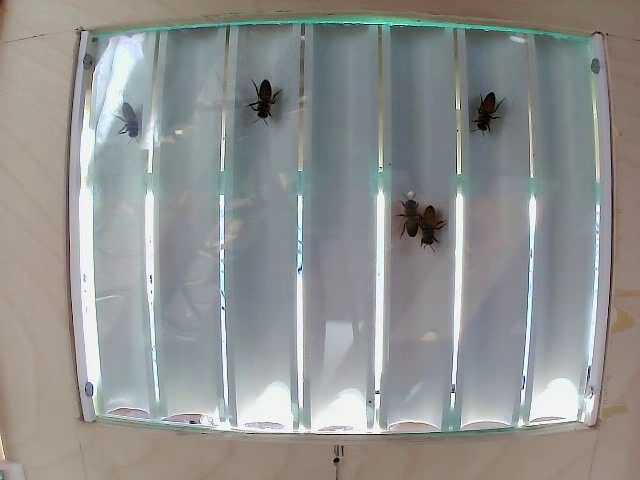bee: (109, 110, 165, 149), (259, 87, 289, 138), (473, 86, 500, 131), (421, 196, 442, 249), (402, 198, 424, 235)
